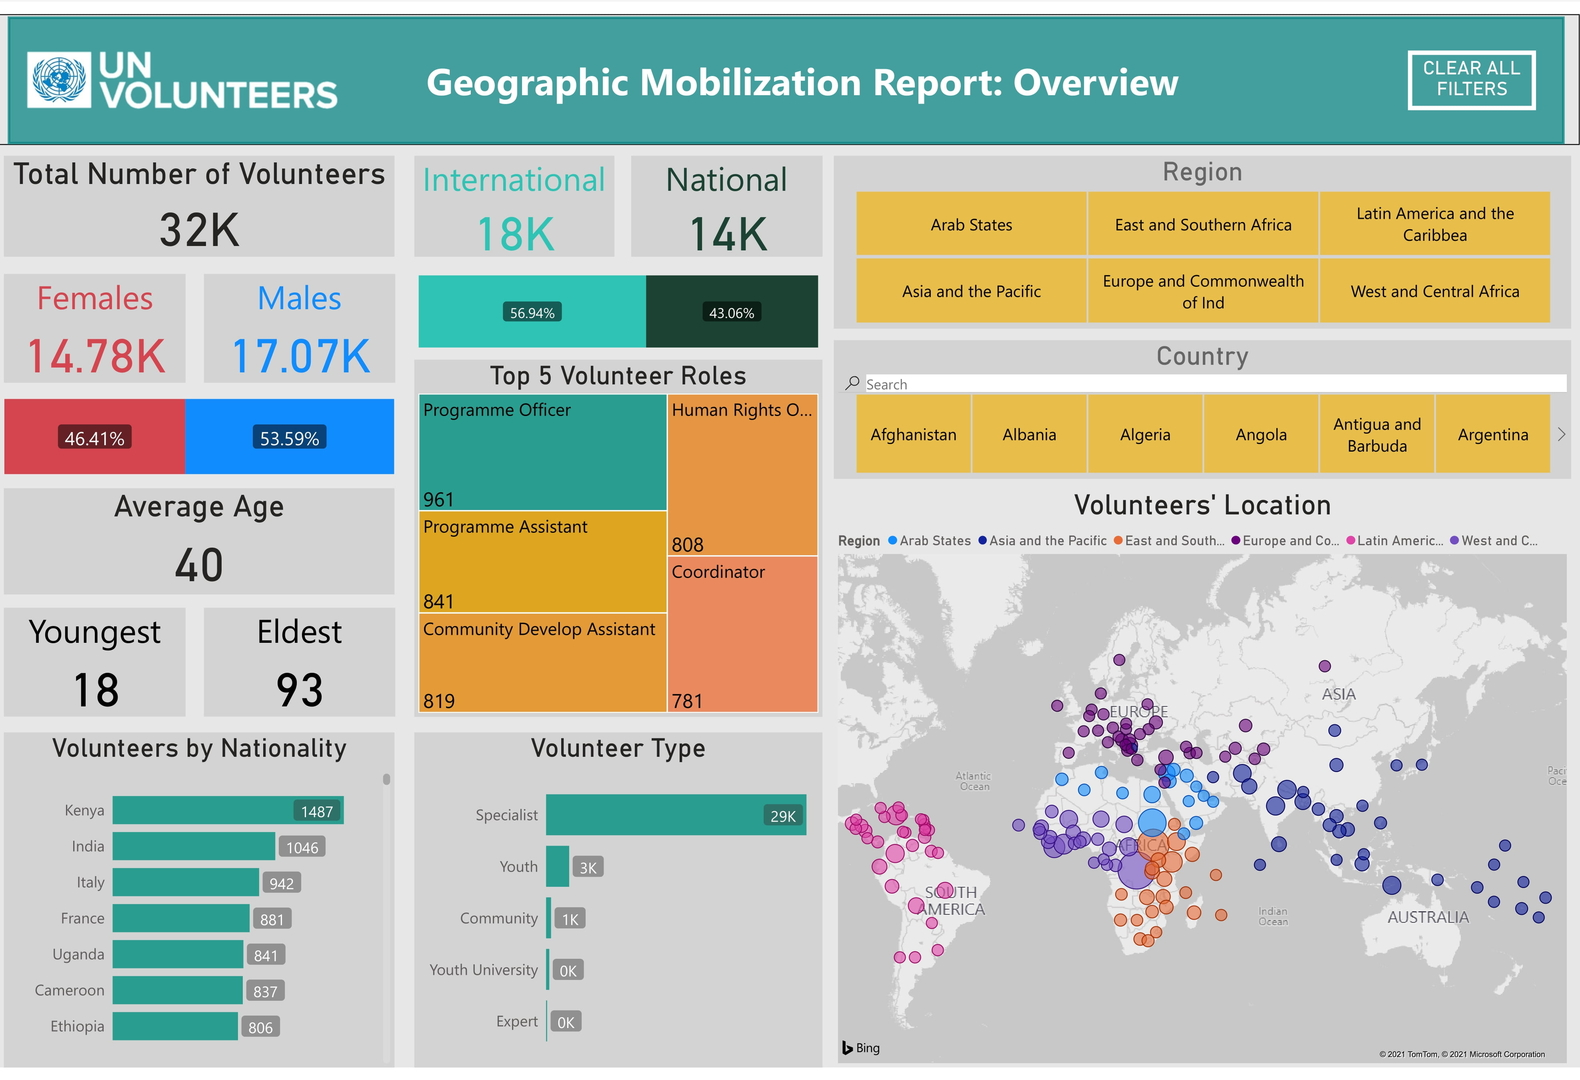

Layout of this report page (visuals, bound fields, positions):
{"tool":"powerbi","page":{"name":"Overview","canvas":[1800,1200],"ordinal":0},"visuals":[{"type":"basicShape","box":[-10.1,0,1810.1,149.5],"z":0,"group":"g1"},{"type":"card","title":"Total Number of Volunteers","fields":{"Values":["UN_Volunteer_Data.Volunteer Count"]},"box":[4.4,161.3,445.4,115.4],"z":0},{"type":"image","box":[22.7,0,369.3,149.4],"z":1000,"group":"g1"},{"type":"card","title":"Males","fields":{"Values":["Measures List.Male Count"]},"box":[232.3,295.9,217.5,124.3],"z":1000},{"type":"card","title":"Females","fields":{"Values":["Measures List.Female Count"]},"box":[4.4,295.9,207.2,124.3],"z":2000},{"type":"hundredPercentStackedBarChart","fields":{"Y":["Measures List.Volunteer Count"],"Series":["UN_Volunteer_Data.Gender"]},"box":[0,310.7,454.3,338.8],"z":3000},{"type":"card","title":"Average Age","fields":{"Values":["Measures List.Avg Age"]},"box":[4.4,540.1,445.4,121.3],"z":4000},{"type":"card","title":"Youngest","fields":{"Values":["Measures List.Young Age"]},"box":[4.4,676.2,207.2,124.3],"z":5000},{"type":"card","title":"Eldest","fields":{"Values":["Measures List.Elder Age"]},"box":[232.3,676.2,217.5,124.3],"z":6000},{"type":"clusteredBarChart","title":"Volunteers by Nationality","fields":{"Category":["UN_Volunteer_Data.Nationality"],"Y":["CountNonNull(UN_Volunteer_Data.Volunteer Id)"]},"box":[4.4,818.2,445.4,381.8],"z":7000},{"type":"card","title":"International","fields":{"Values":["Measures List.International"]},"box":[472,161.3,227.9,115.4],"z":8000},{"type":"card","title":"National","fields":{"Values":["Measures List.National"]},"box":[719.1,161.3,217.5,115.4],"z":9000},{"type":"hundredPercentStackedBarChart","fields":{"Y":["Measures List.Volunteer Count"],"Series":["UN_Volunteer_Data.Assignment Type"]},"box":[472,174.6,464.6,325.5],"z":10000},{"type":"treemap","title":"Top 5 Volunteer Roles","fields":{"Values":["Measures List.Volunteer Count"],"Group":["UN_Volunteer_Data.Job Title"]},"box":[472,393.6,464.6,406.9],"z":11000},{"type":"barChart","title":"Volunteer Type","fields":{"Category":["UN_Volunteer_Data.Volunteer Type"],"Y":["Measures List.Volunteer Count"]},"box":[472,818.2,464.6,381.8],"z":12000},{"type":"map","title":"Volunteers'' Location","fields":{"Category":["UN_Volunteer_Data.Country"],"Size":["Measures List.Volunteer Count"],"Series":["UN_Volunteer_Data.Region"]},"box":[949.9,540.1,840.4,659.9],"z":13000},{"type":"slicer","title":"Region","fields":{"Values":["UN_Volunteer_Data.Region"]},"box":[949.9,161.3,840.4,196.8],"z":14000},{"type":"slicer","title":"Country","fields":{"Values":["UN_Volunteer_Data.Country"]},"box":[949.9,371.4,840.4,158.3],"z":15000},{"type":"group","id":"g1","title":"Group 1","box":[-10.1,0,1810.1,149.5],"z":17000},{"type":"textbox","box":[480.7,41.4,928.1,68.1],"z":18000,"group":"g1"},{"type":"actionButton","box":[1603.9,41.4,146.5,68.1],"z":18000}]}

Visuals, with their boxes in screenshot pixels (x1, y1, x2, y2), scaled from the page's 1800x1200 canvas onto the 1580x1080 screenshot:
basicShape: bbox(0, 0, 1579, 135)
"Total Number of Volunteers" card: bbox(4, 145, 395, 249)
image: bbox(20, 0, 344, 134)
"Males" card: bbox(204, 266, 395, 378)
"Females" card: bbox(4, 266, 186, 378)
hundredPercentStackedBarChart - Measures List.Volunteer Count x UN_Volunteer_Data.Gender: bbox(0, 280, 399, 585)
"Average Age" card: bbox(4, 486, 395, 595)
"Youngest" card: bbox(4, 609, 186, 720)
"Eldest" card: bbox(204, 609, 395, 720)
"Volunteers by Nationality" clusteredBarChart: bbox(4, 736, 395, 1079)
"International" card: bbox(414, 145, 614, 249)
"National" card: bbox(631, 145, 822, 249)
hundredPercentStackedBarChart - Measures List.Volunteer Count x UN_Volunteer_Data.Assignment Type: bbox(414, 157, 822, 450)
"Top 5 Volunteer Roles" treemap: bbox(414, 354, 822, 720)
"Volunteer Type" barChart: bbox(414, 736, 822, 1079)
"Volunteers'' Location" map: bbox(834, 486, 1571, 1079)
"Region" slicer: bbox(834, 145, 1571, 322)
"Country" slicer: bbox(834, 334, 1571, 477)
"Group 1" group: bbox(0, 0, 1579, 135)
textbox: bbox(422, 37, 1237, 99)
actionButton: bbox(1408, 37, 1536, 99)
